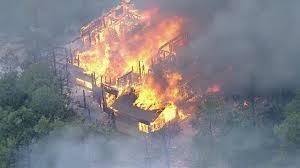fire: (71, 5, 190, 136)
